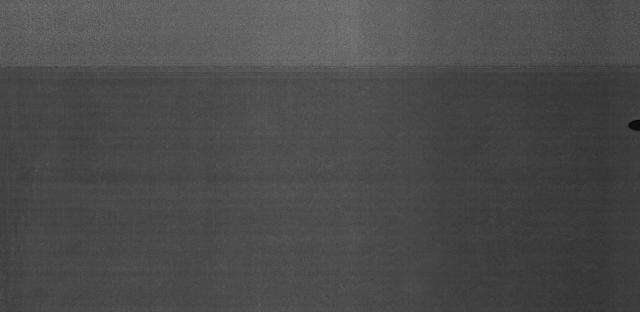punching_hole: (626, 116, 640, 132)
welding_line: (2, 58, 639, 77)
